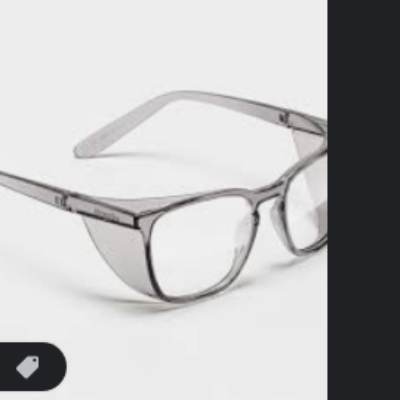glasses: (1, 86, 328, 305)
